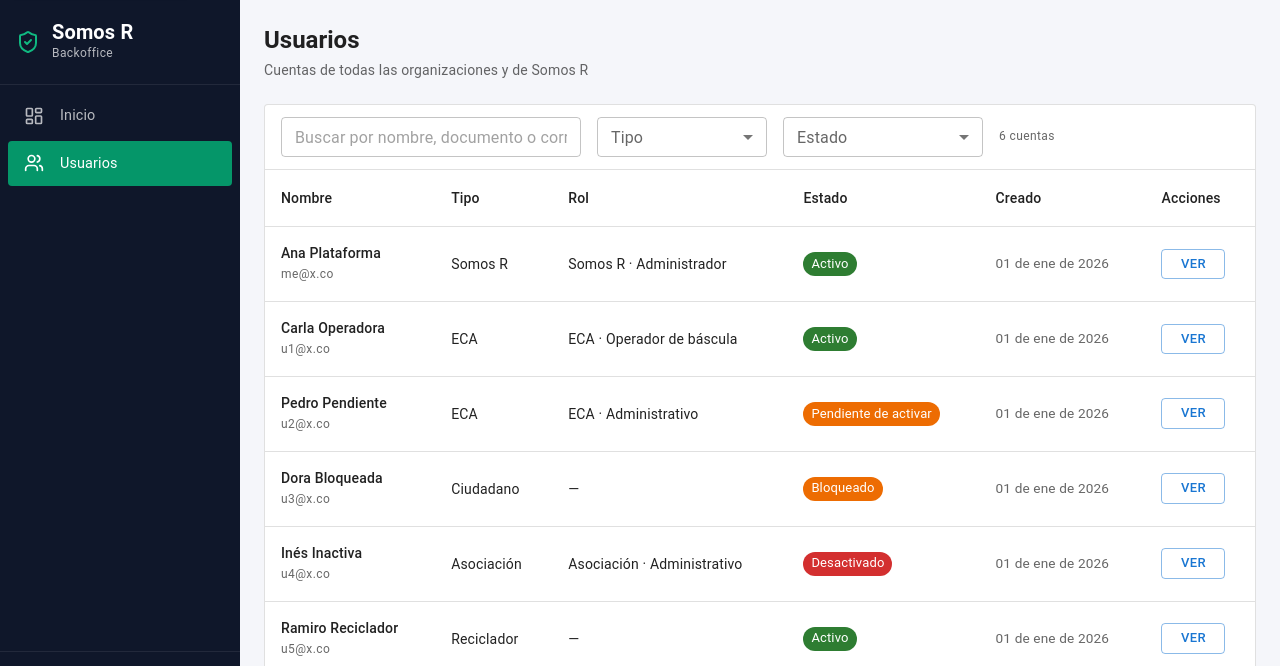
Test case: an account's detail and actions › does not offer to deactivate the own account
The image size is (1280, 666).
Click the button "Ver" in the row of "me@x.co".
click(1194, 264)  # box x1=1162 y1=249 x2=1226 y2=279
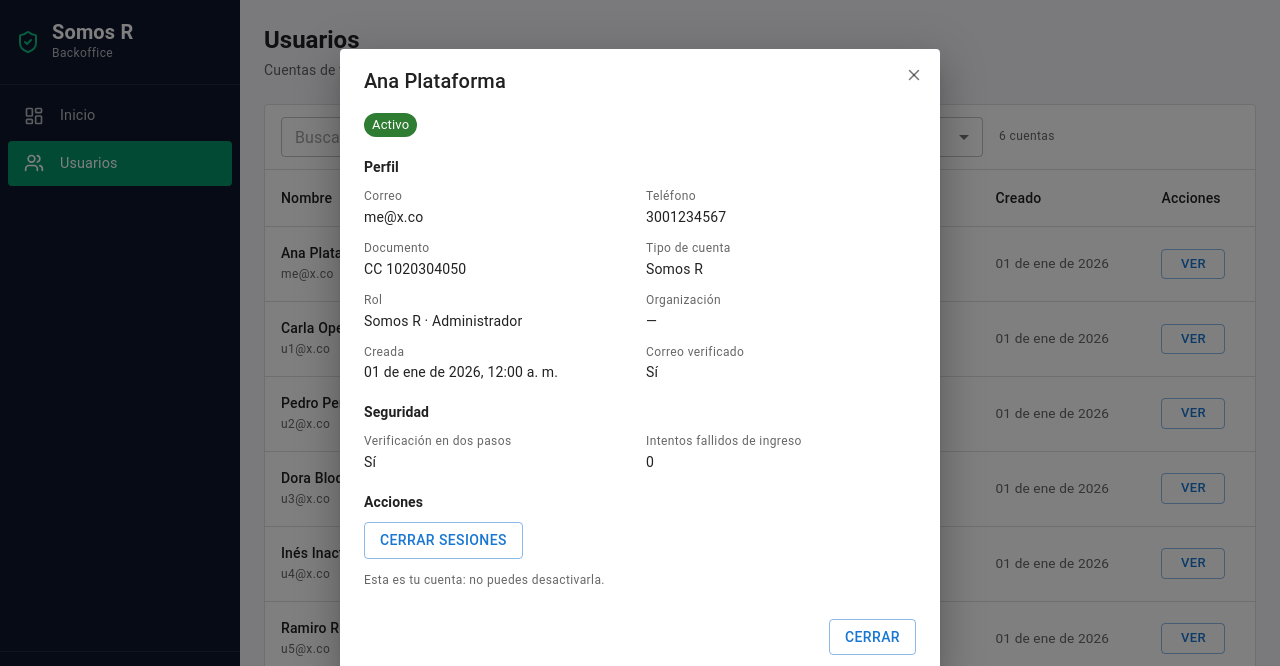
Check: the text "Esta es tu cuenta: no puedes desactivarla." is shown, box x1=364 y1=573 x2=605 y2=587
